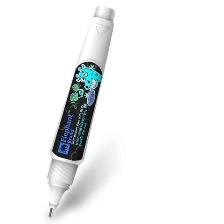correction_fluid: (43, 2, 115, 220)
